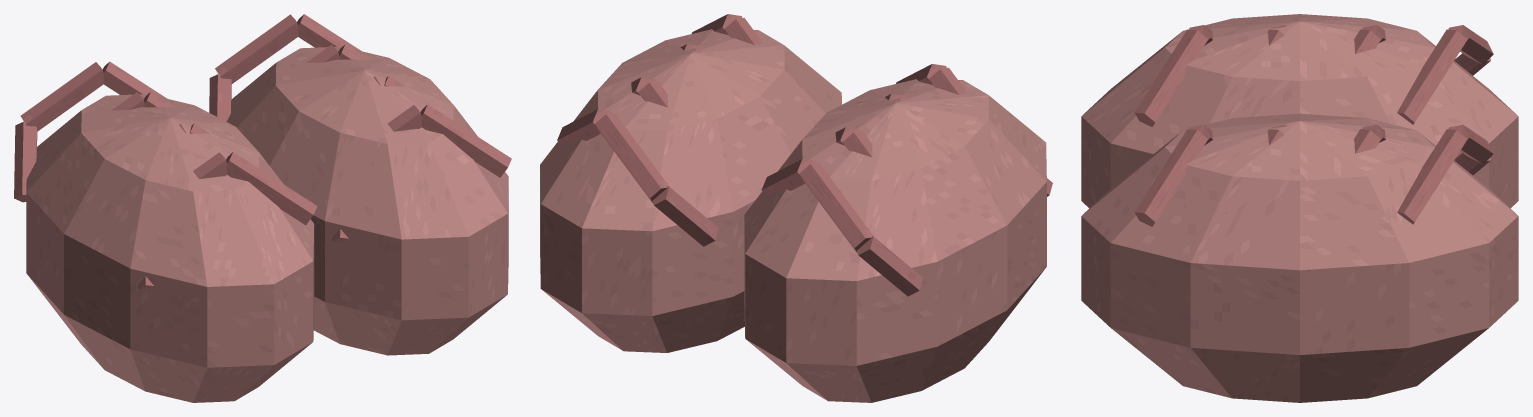
The model's file is brain.glb.
3 renders of one model, left to right at view 1: azimuth 30°, elevation 25°; view 2: azimuth 150°, elevation 25°; view 3: azimuth 270°, elevation 25°, orthographic. The views are drawn at different scales.
Visible parts, largest first — view 1: block_rounded cortex (×2), block_cortex fold 2 (×4), block_cortex fold 1 (×4), block_cortex fold 0 (×2); view 2: block_rounded cortex (×2), block_cortex fold 1 (×6), block_cortex fold 0 (×2), block_cortex fold 2 (×2); view 3: block_rounded cortex (×2), block_cortex fold 2 (×6), block_cortex fold 1 (×2).
Boxes of the visible parts, x1,y1,x2,y2 form: block_rounded cortex (×2): (26,46,508,402); block_cortex fold 2 (×4): (102,14,511,225); block_cortex fold 1 (×4): (20,14,421,179); block_cortex fold 0 (×2): (14,74,231,202); block_rounded cortex (×2): (540,29,1046,402); block_cortex fold 1 (×6): (595,17,967,252); block_cortex fold 0 (×2): (652,186,922,296); block_cortex fold 2 (×2): (557,109,816,195); block_rounded cortex (×2): (1081,14,1518,402); block_cortex fold 2 (×6): (1134,29,1467,226); block_cortex fold 1 (×2): (1448,25,1493,164).
Size of the model in its own units: 0.0693 by 0.0425 by 0.0614.
1 material, 1 textured.
